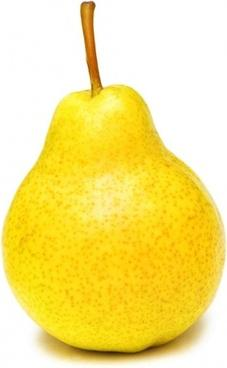pear: (0, 0, 227, 368)
